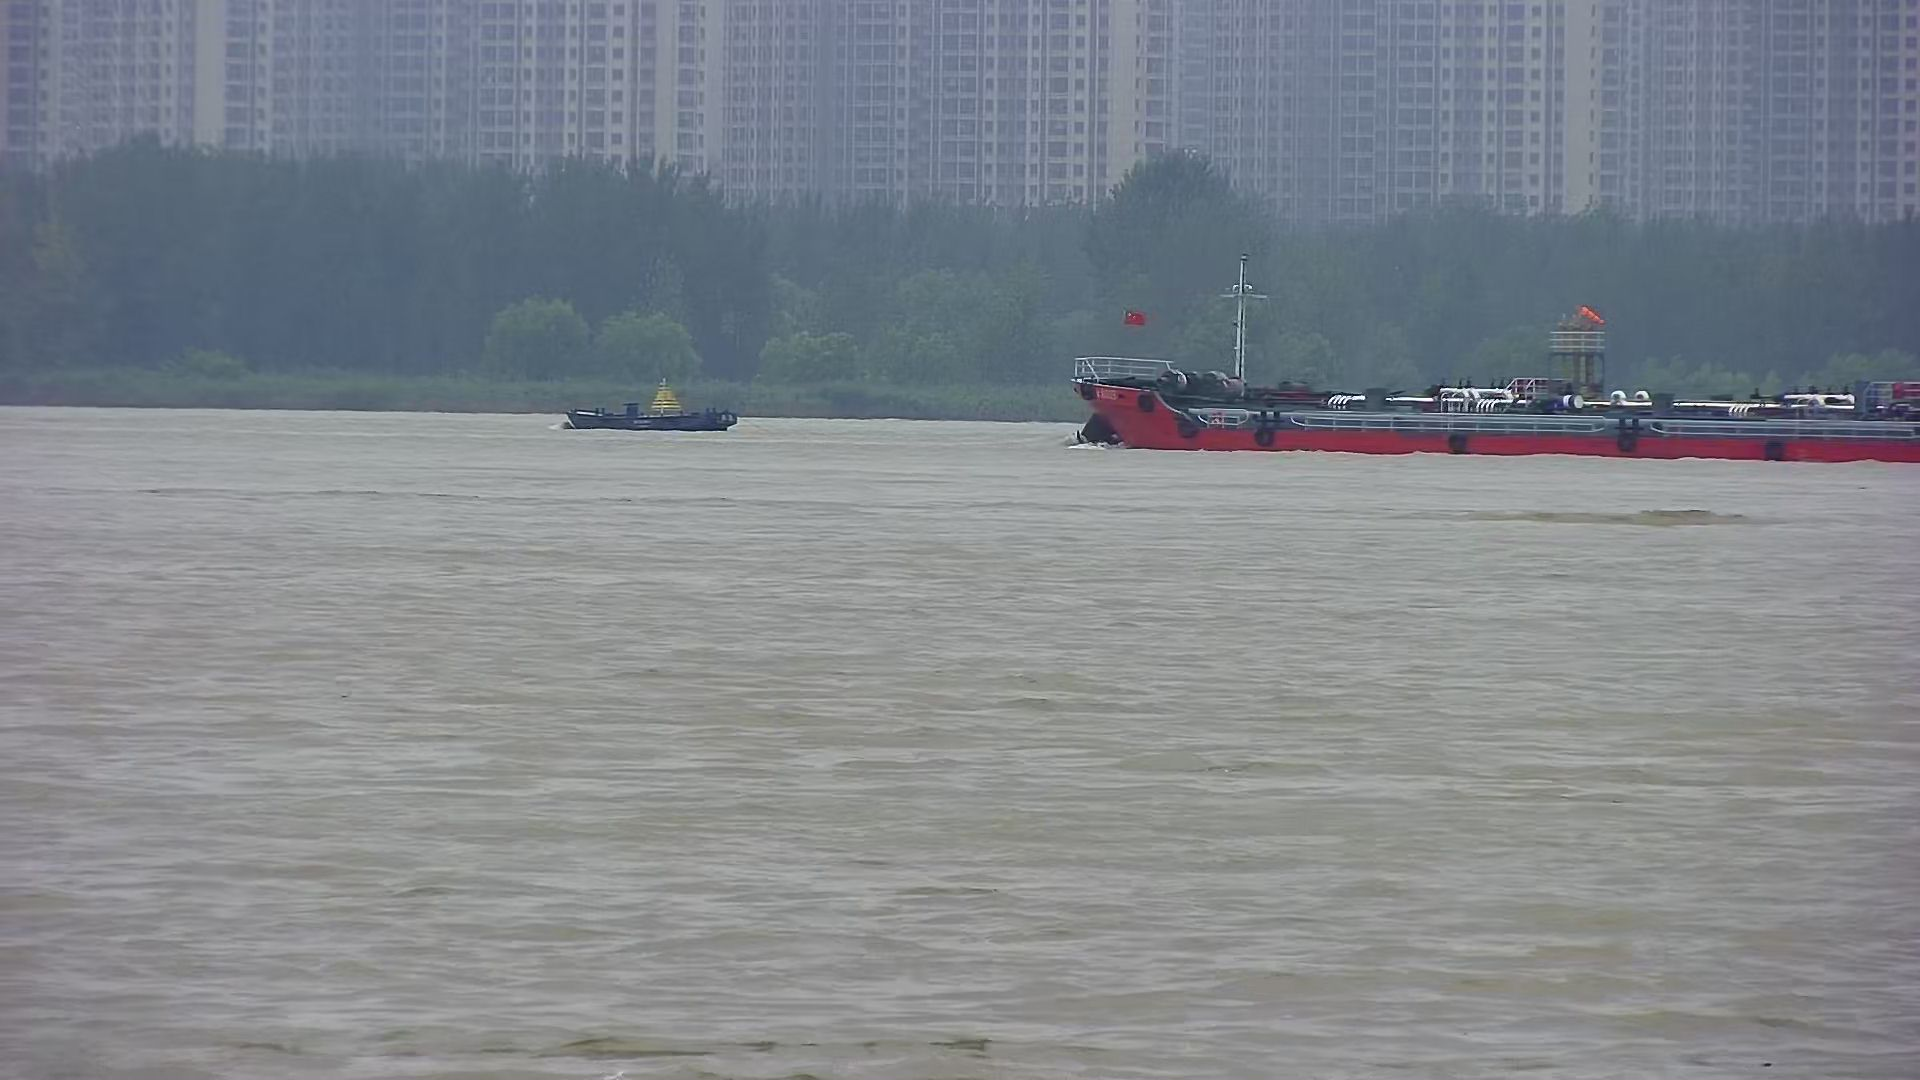boat: (554, 369, 735, 436)
ship: (1062, 318, 1920, 473)
